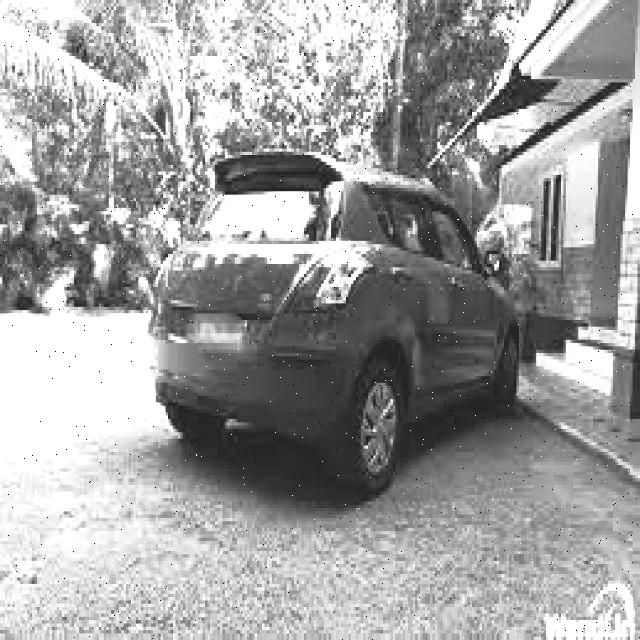Car: (152, 148, 522, 498)
